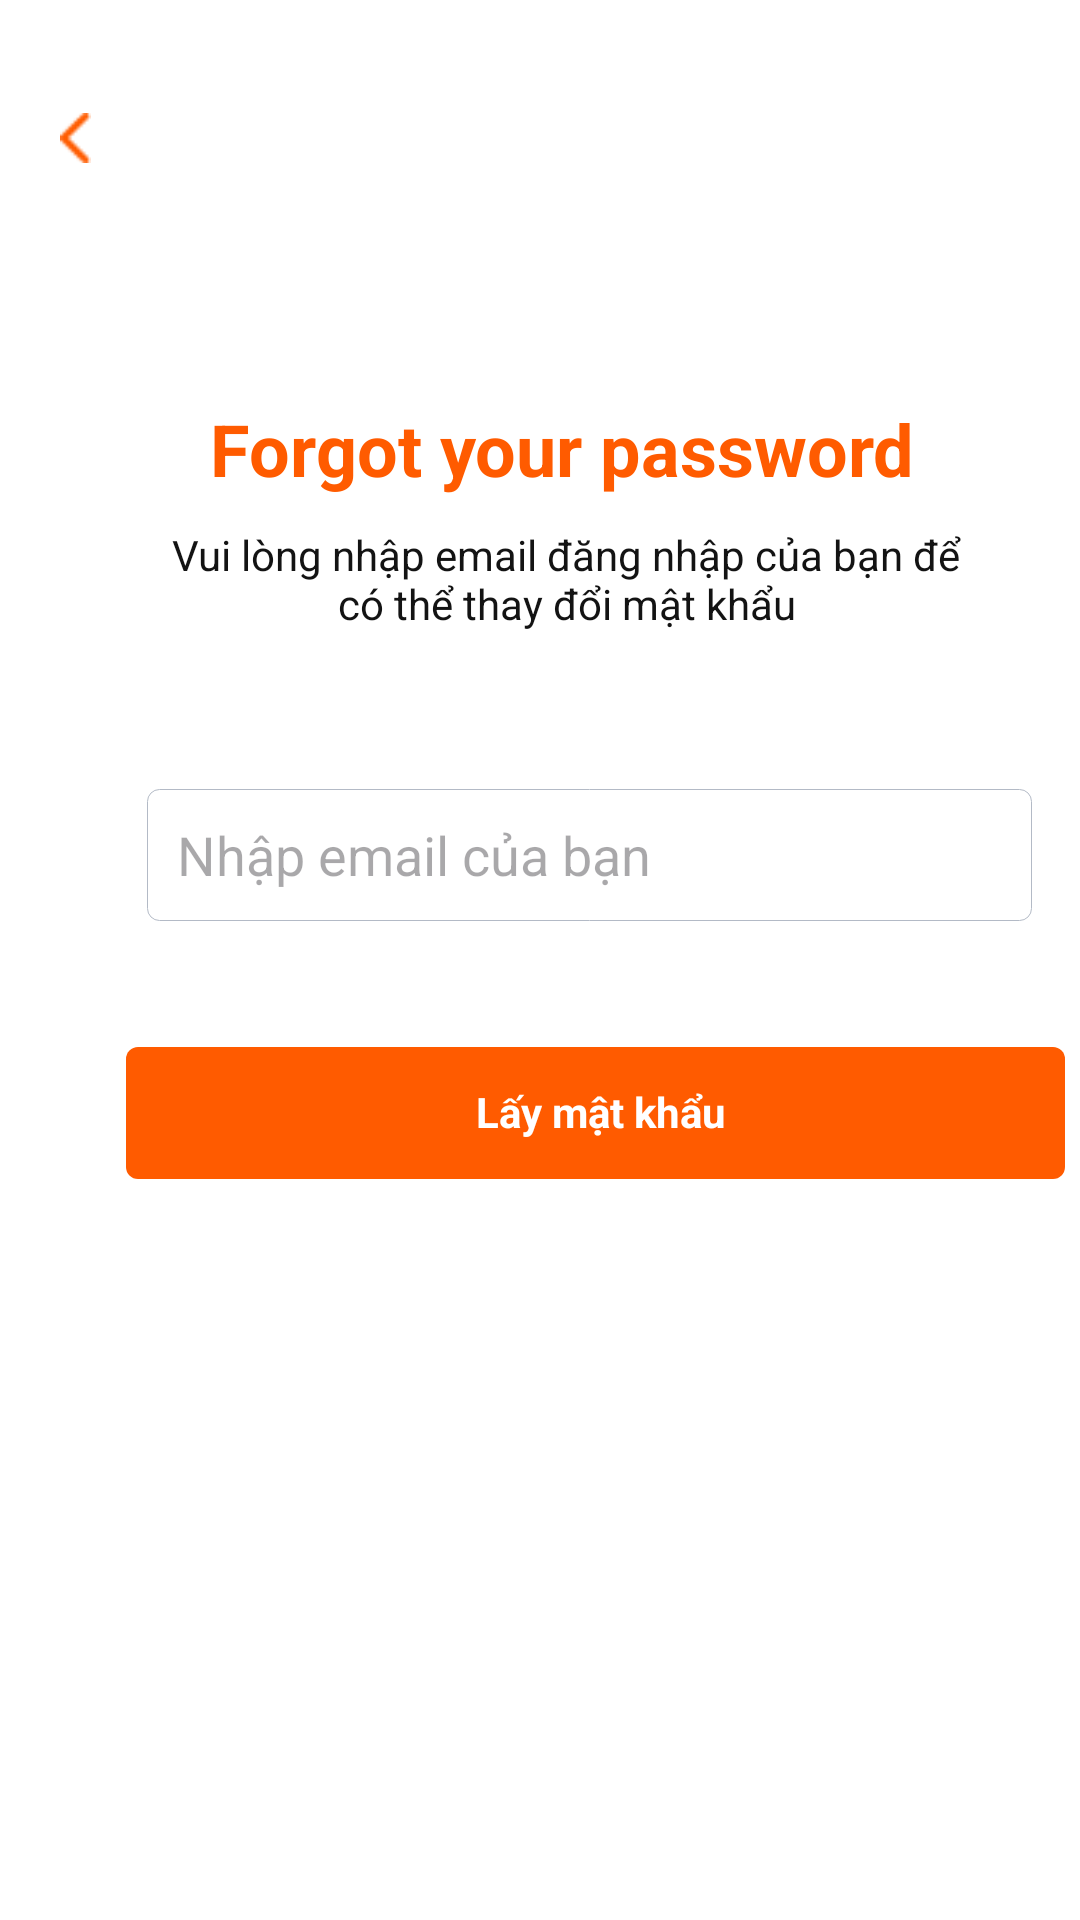

Icons on this 1080px x 1920px Android screen, each with the point to tap as [x,y]:
back: [75,138]
